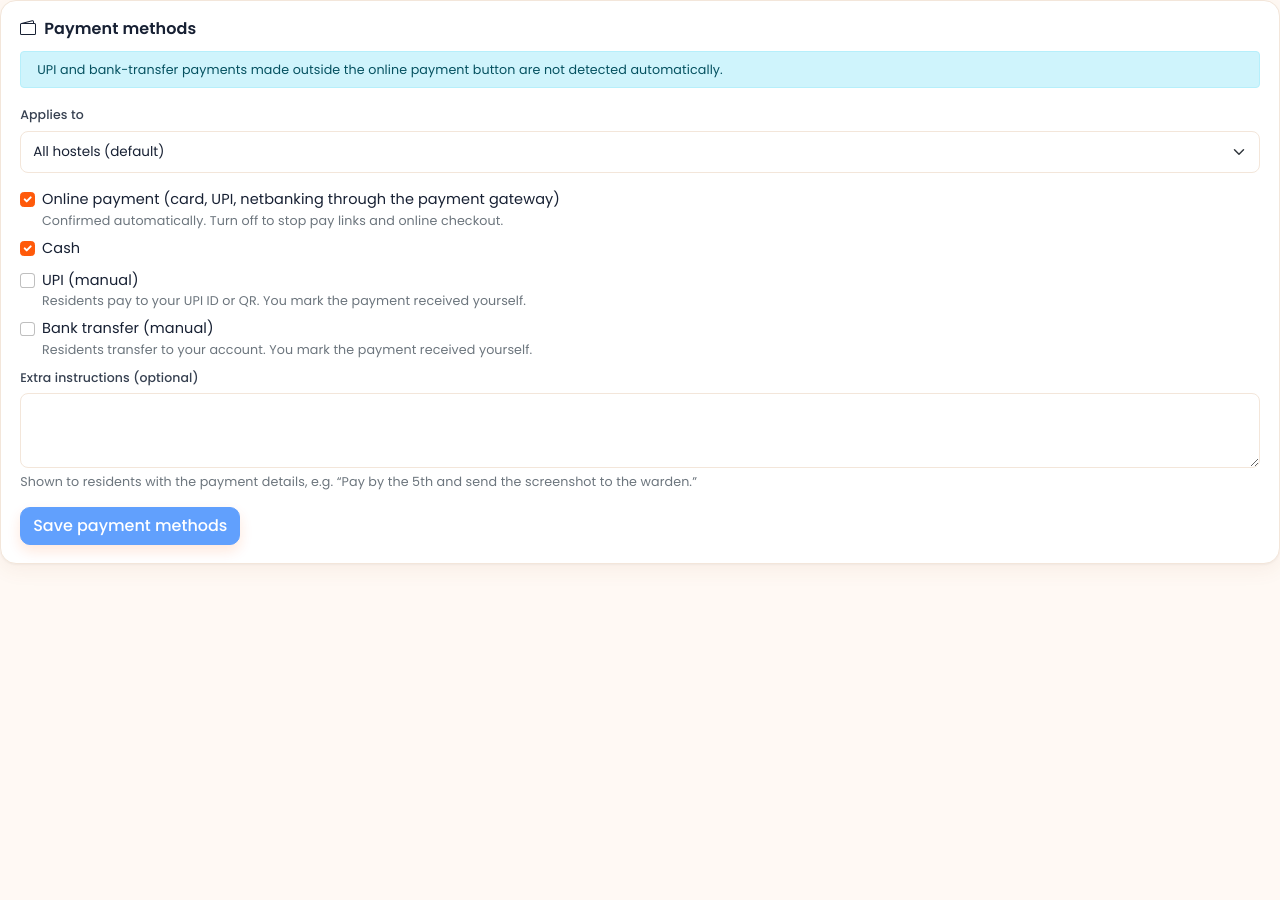
Test: owner setup › always states that UPI/QR/bank payments are not auto-reconciled
This screenshot has width=1280, height=900.
Check: the text "UPI and bank-transfer payments made outside the online payment button are not detected automatically." is shown, box [37,61,723,78]
Click the checkbox labelled "UPI (manual)". click: coordinates (27, 280)
box: [20,273,35,288]
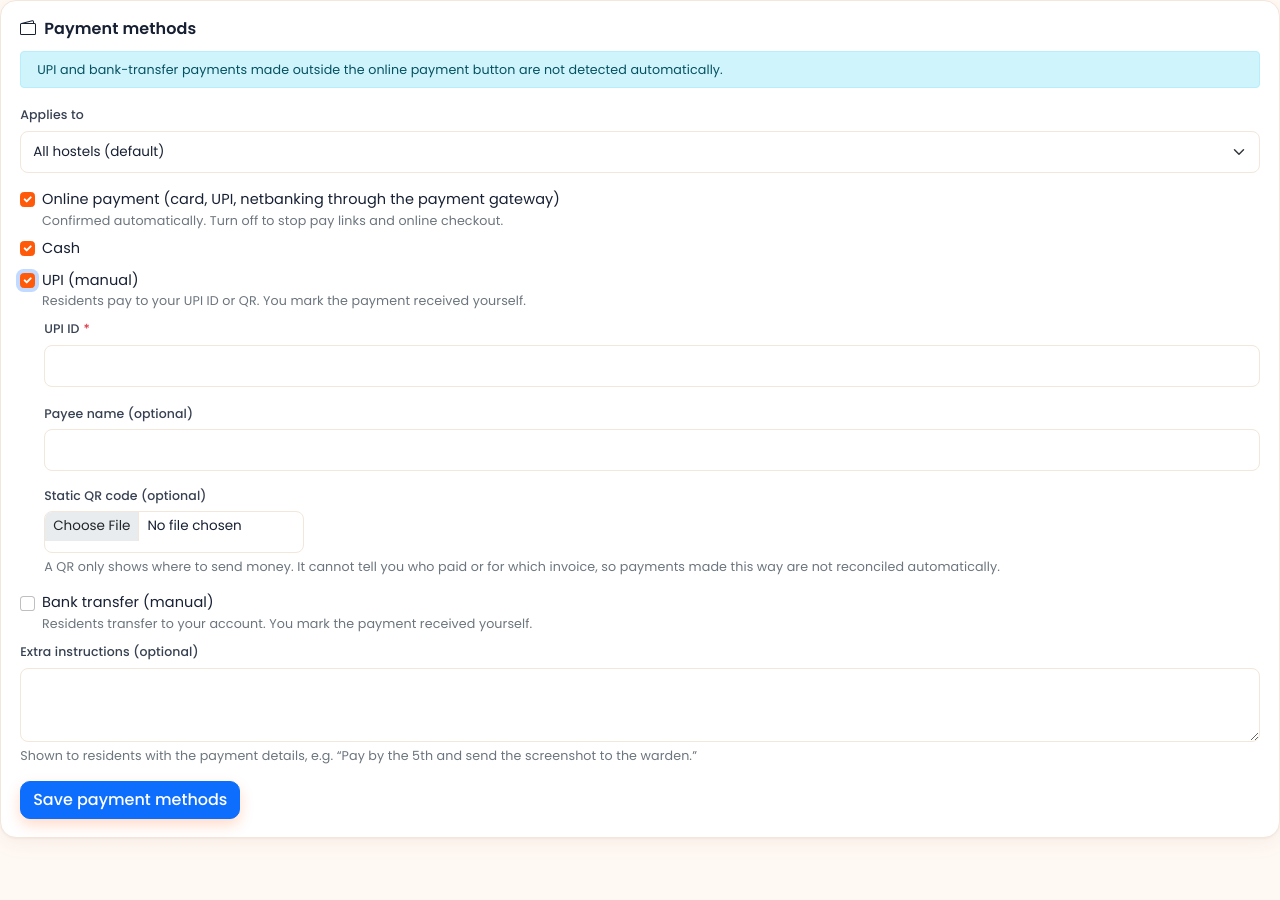
Check: the text "cannot tell you who paid or for which invoice" is shown, box [44,558,1000,575]
